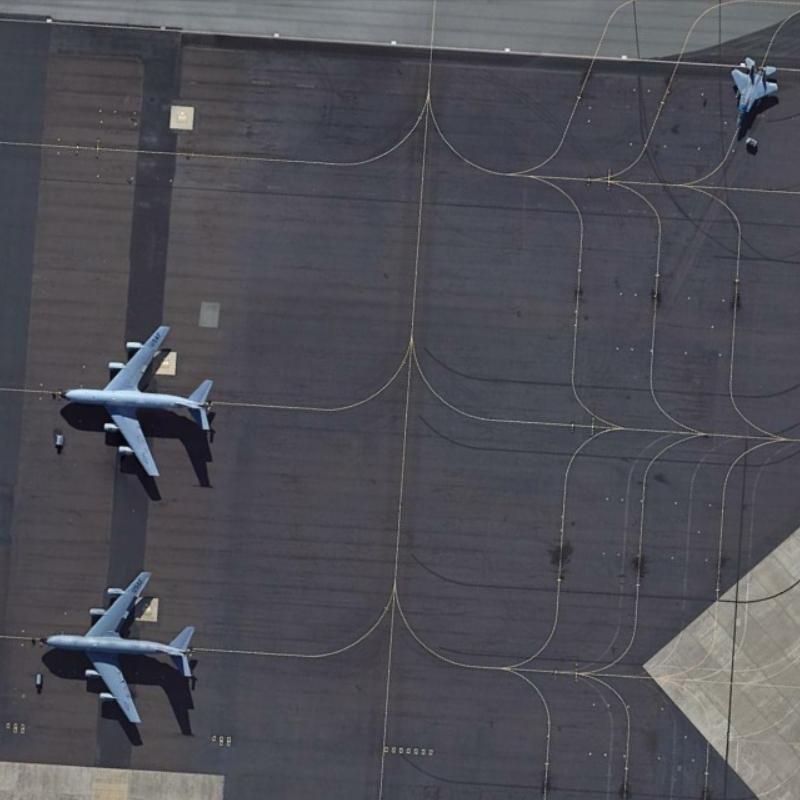A13: (727, 53, 782, 128)
A14: (51, 321, 216, 481), (30, 568, 197, 725)
